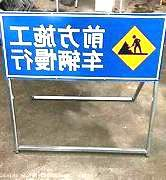sign: (1, 14, 162, 81)
